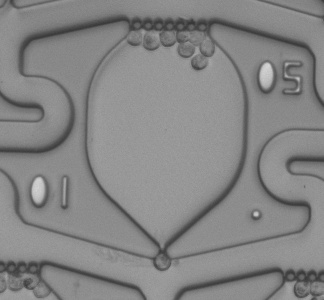AptNum: (254, 51, 306, 100)
Marker: (249, 206, 264, 222)
StNum: (23, 165, 81, 214)
